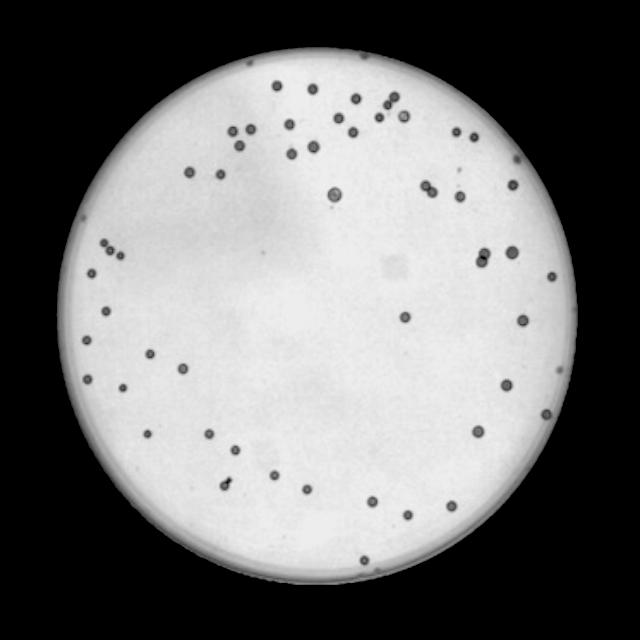colony: (328, 186, 342, 202), (505, 245, 519, 258), (475, 254, 489, 267), (500, 377, 514, 390), (471, 424, 485, 437), (478, 246, 490, 259), (366, 495, 379, 507), (234, 138, 246, 150), (419, 178, 431, 190), (426, 185, 438, 197), (399, 310, 411, 322), (540, 407, 552, 419), (446, 498, 458, 510), (516, 314, 529, 325), (219, 475, 229, 489), (184, 165, 195, 177), (245, 122, 256, 134), (271, 78, 282, 90), (284, 117, 295, 129), (286, 147, 298, 158), (389, 90, 400, 102), (399, 110, 410, 122), (402, 508, 414, 519), (82, 372, 94, 383), (348, 126, 359, 137), (374, 111, 385, 122), (508, 178, 519, 189), (301, 482, 312, 493), (178, 362, 189, 373), (309, 140, 319, 152), (546, 270, 558, 280), (228, 125, 239, 135), (308, 82, 318, 93), (334, 111, 344, 122), (351, 92, 361, 103), (230, 444, 241, 454), (81, 334, 92, 344), (145, 347, 155, 358), (204, 428, 214, 438), (101, 305, 111, 315), (86, 267, 96, 277), (215, 167, 224, 178), (451, 126, 461, 135), (469, 131, 479, 140), (455, 191, 465, 200), (270, 470, 280, 479), (142, 428, 152, 437), (105, 245, 115, 254), (360, 555, 369, 564), (116, 250, 125, 259), (382, 100, 392, 108), (119, 382, 128, 390), (100, 237, 109, 245)
